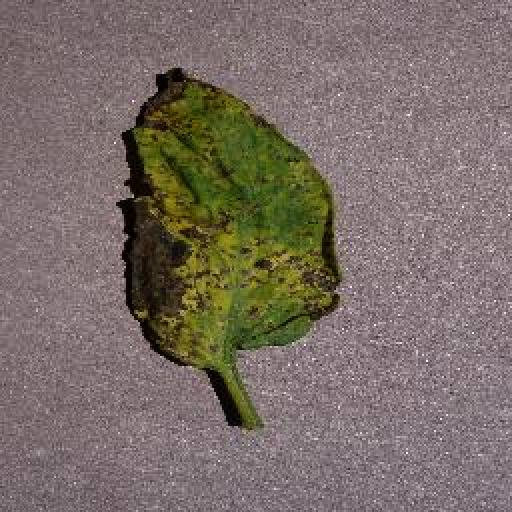disease_tomato: (122, 70, 342, 368)
